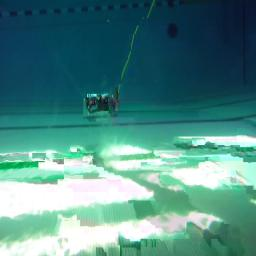front: (83, 93, 120, 122)
